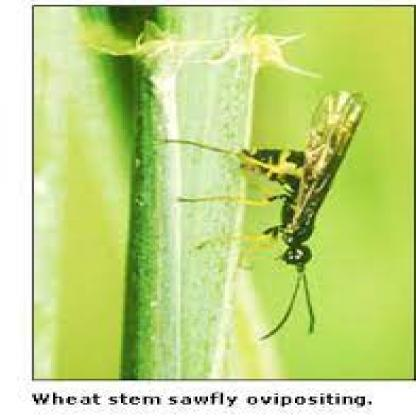sawfly: (174, 86, 364, 335)
